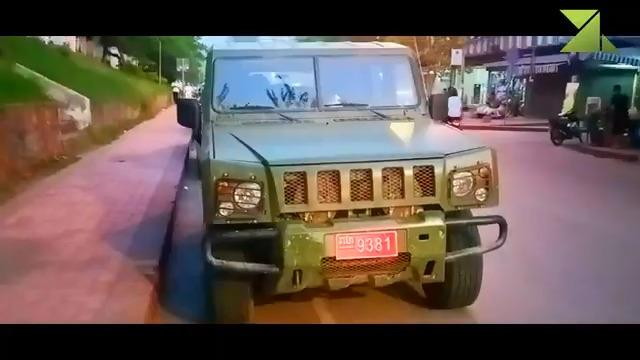MIL_HMMWV: (176, 41, 508, 323)
